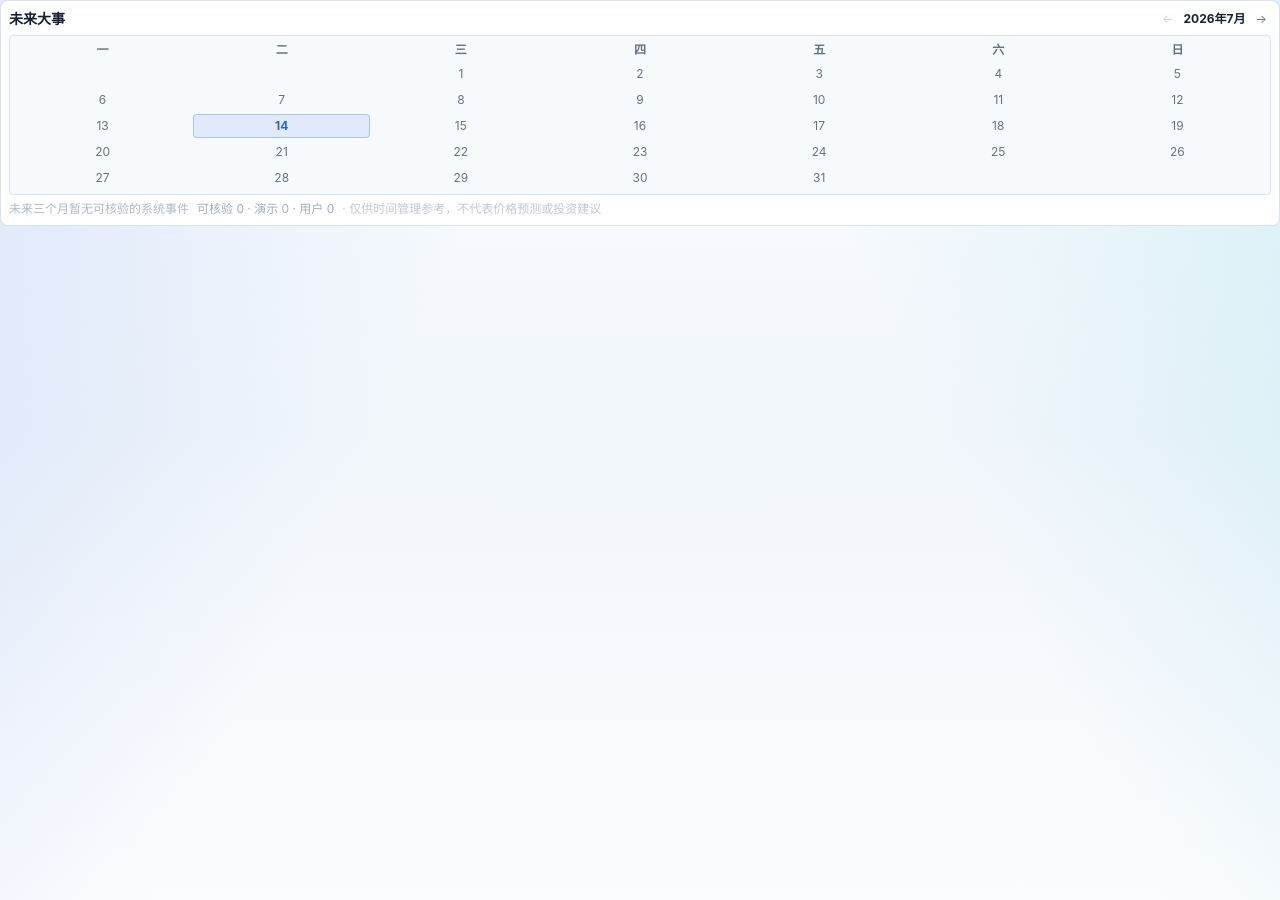
第十六阶段里程碑二：日历组件渲染 › 三个月范围：当前月可显示，可切换到下月和下下月
Expected: the text "2026年7月" is shown, [1184,11,1246,27]
Expected: the text with test id "calendar-month-label" reads "2026年7月", [1184,11,1246,26]
Click the button with test id "calendar-next-month".
click(1261, 19)  # box [1252,9,1271,29]
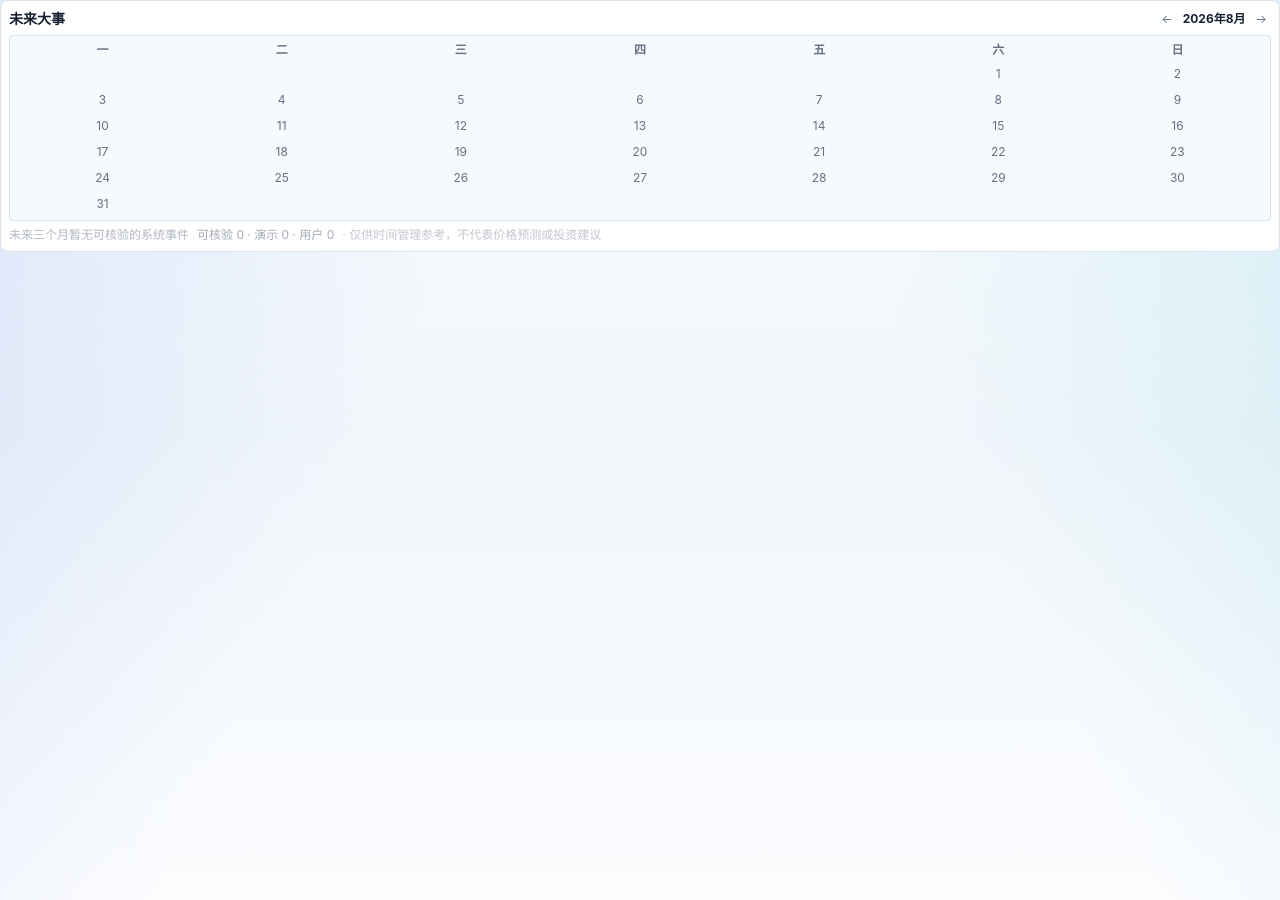
Result: the text with test id "calendar-month-label" reads "2026年8月" at [1183,11,1246,26]
